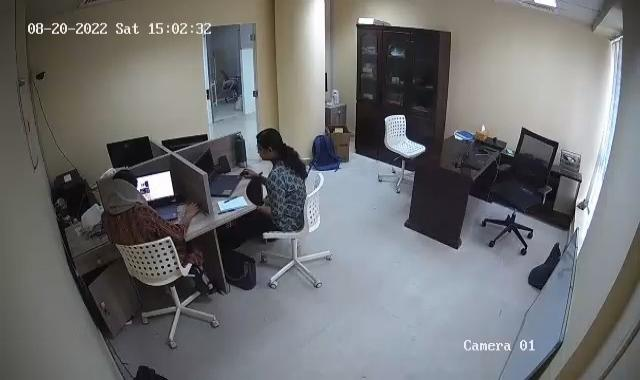no_hairnet: (108, 160, 139, 204), (256, 125, 284, 162)
